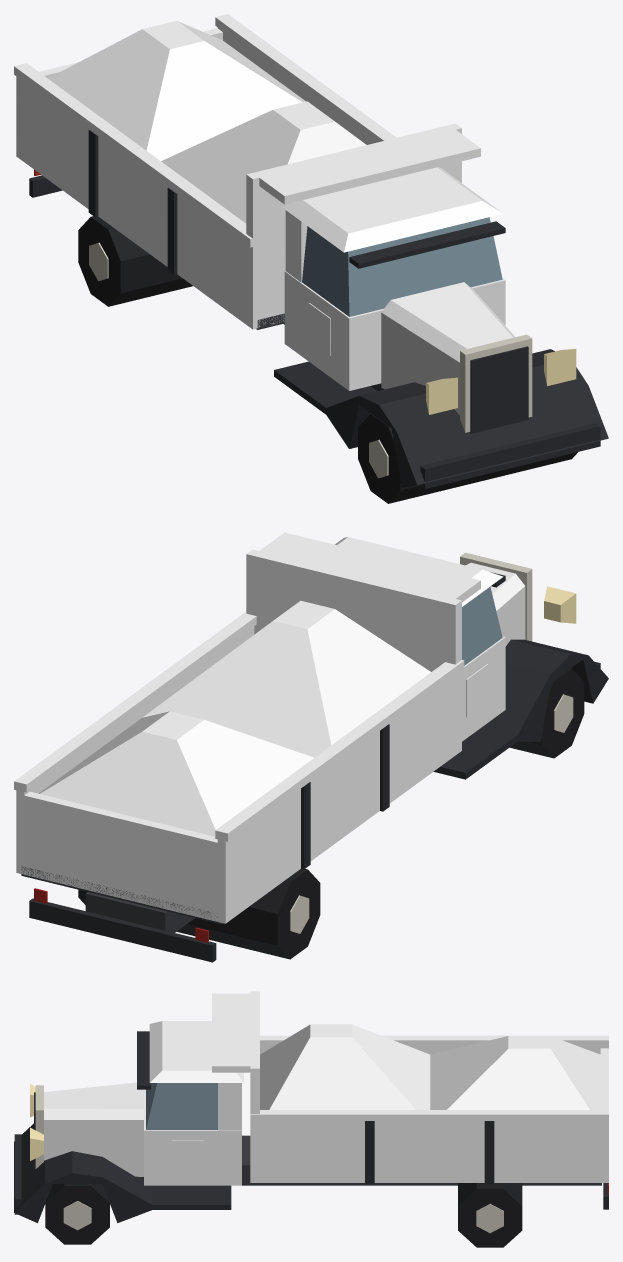
The model's file is tipper.glb.
The picture shows the model from 3 angles, top to bottom: view 1: azimuth 30°, elevation 25°; view 2: azimuth 150°, elevation 25°; view 3: azimuth 270°, elevation 25°; orthographic projection. The views are drawn at different scales.
Visible parts, largest first — view 1: model; view 2: model; view 3: model.
Boxes of the visible parts, left/top/right/bottom form: model: left=14, top=14, right=608, bottom=503; model: left=14, top=532, right=608, bottom=962; model: left=14, top=991, right=608, bottom=1247.
Size of the model in its own units: 2.7 by 2.85 by 8.51.
